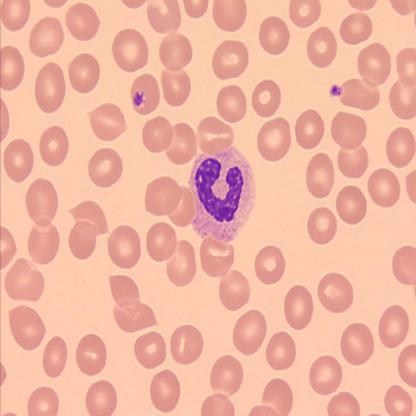Band Neutrophil: (183, 142, 259, 244)
